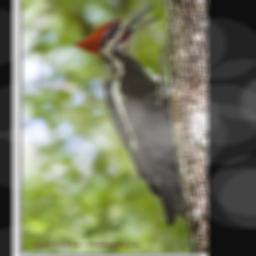Woodpecker: (71, 3, 186, 227)
